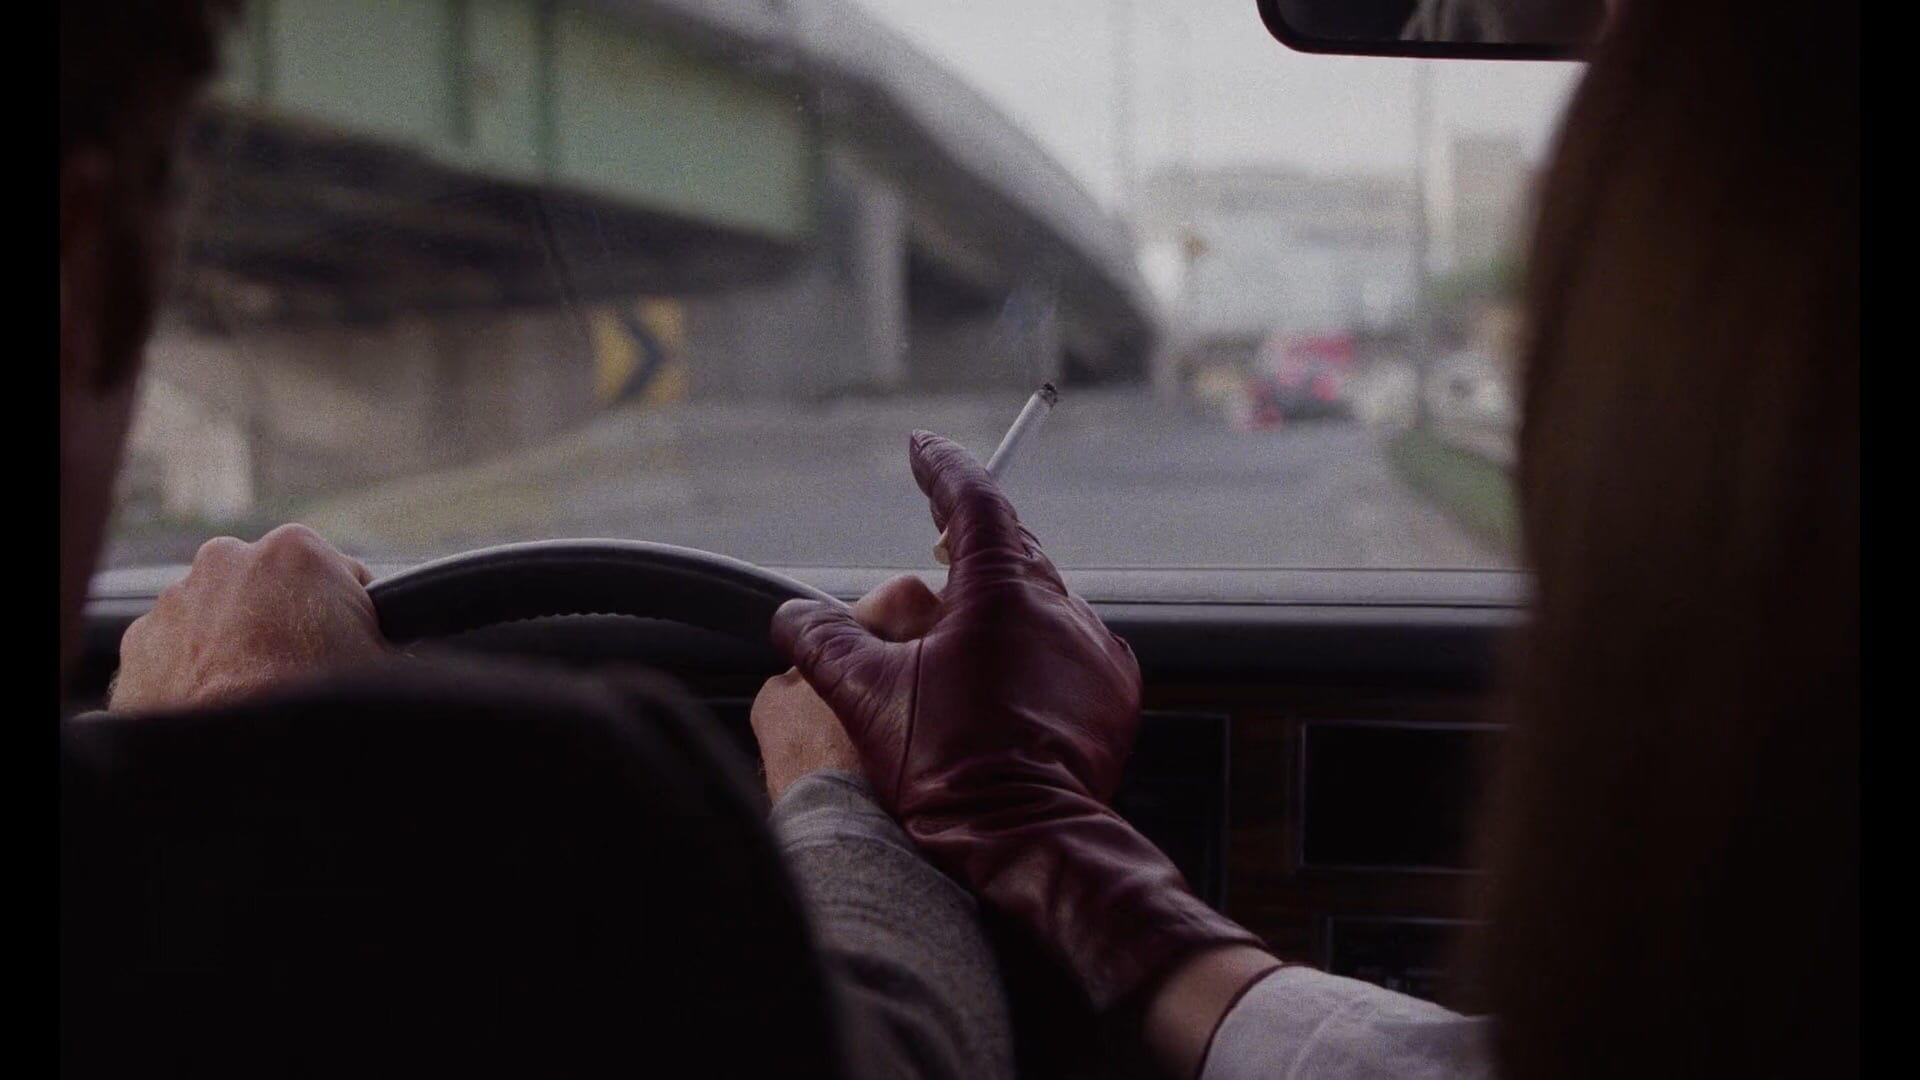cigarette: (934, 377, 1058, 564)
